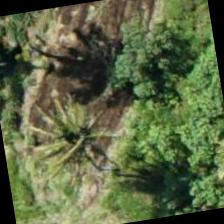Kelapa_Sawit: (23, 84, 126, 188)
